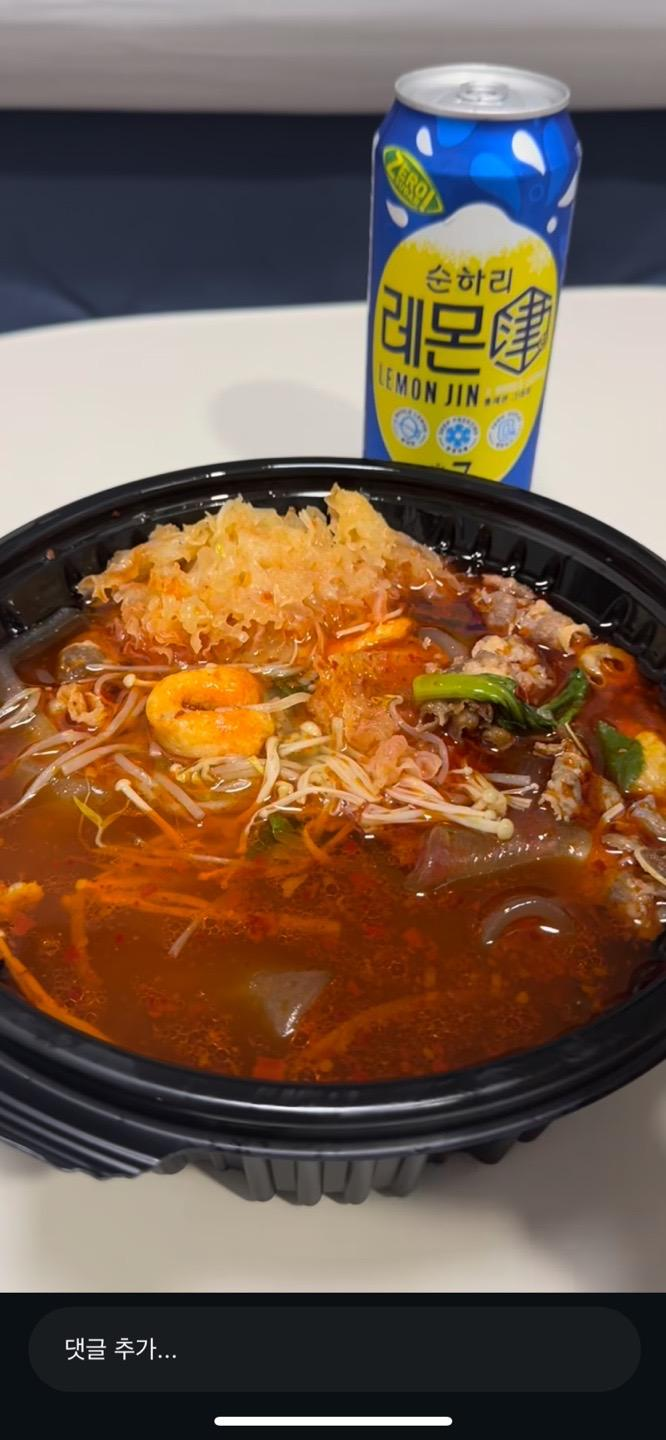Bottle: (360, 64, 584, 476)
Lunch Box: (0, 459, 665, 1205)
